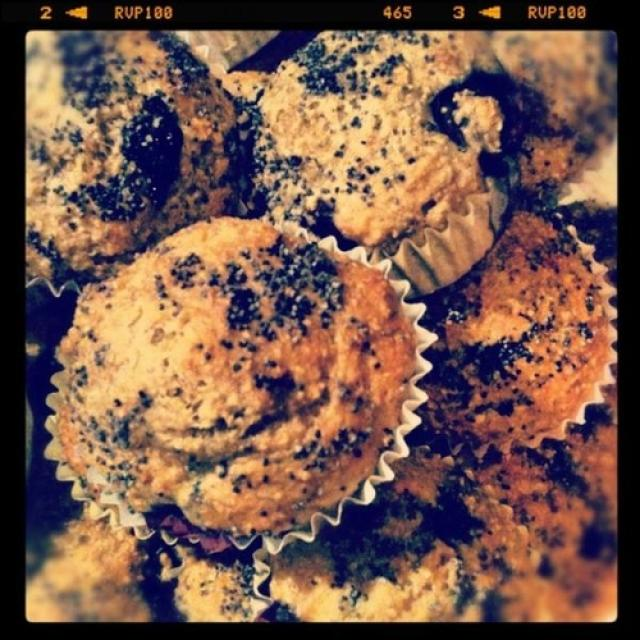炸货点心: (37, 44, 617, 616)
面包点心: (37, 44, 617, 616)
